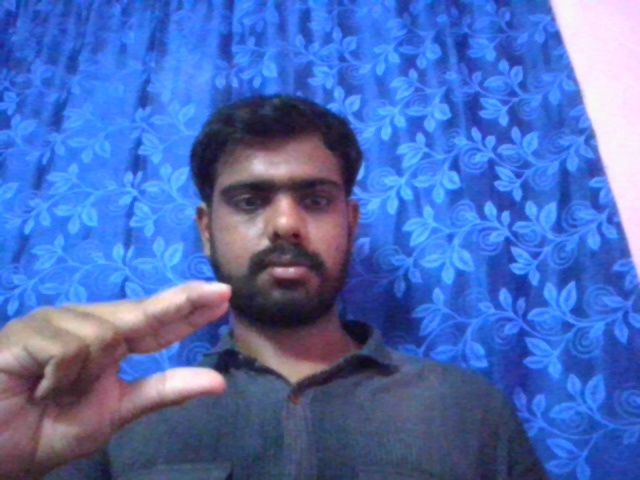No: (4, 274, 234, 438)
